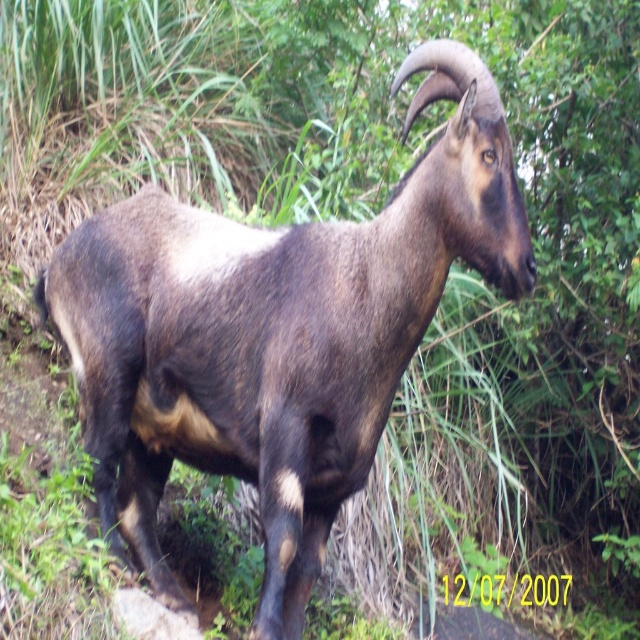Goat: (35, 40, 538, 639)
